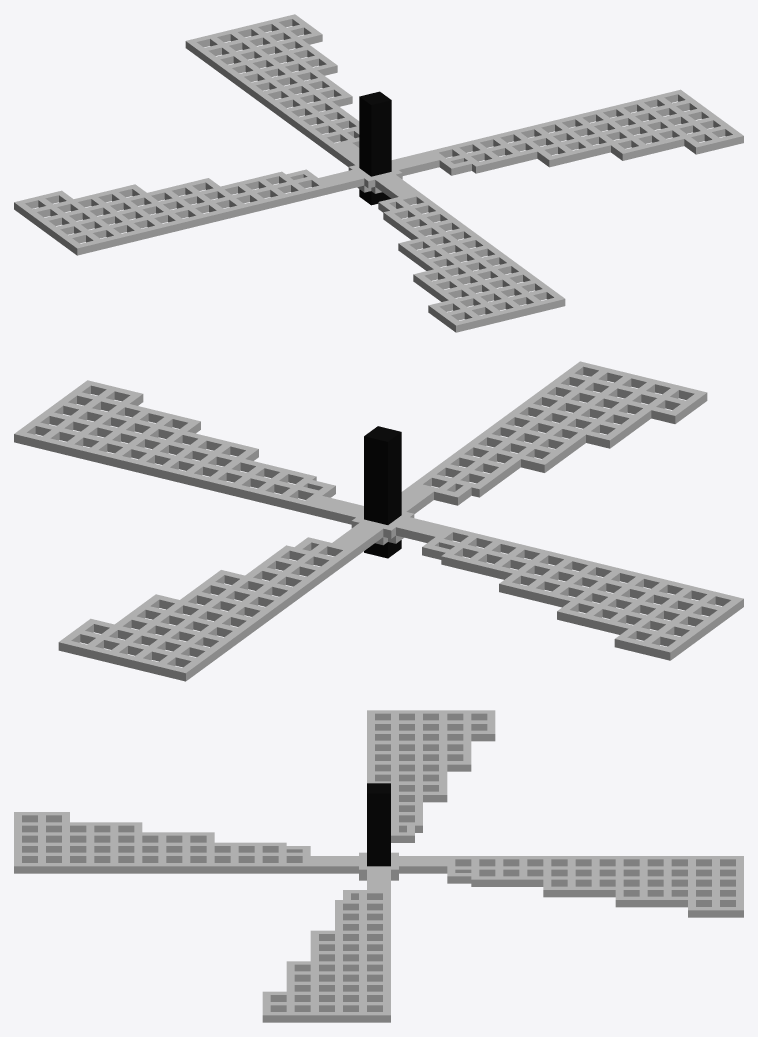
File: windmill_blade.obj
The picture shows the model from 3 angles, top to bottom: view 1: azimuth 30°, elevation 25°; view 2: azimuth 150°, elevation 25°; view 3: azimuth 270°, elevation 25°; orthographic projection. The views are drawn at different scales.
Bounding box in the file's own units: 9 × 1.4 × 9.1.
Materials: 1 (1 with a texture image).
